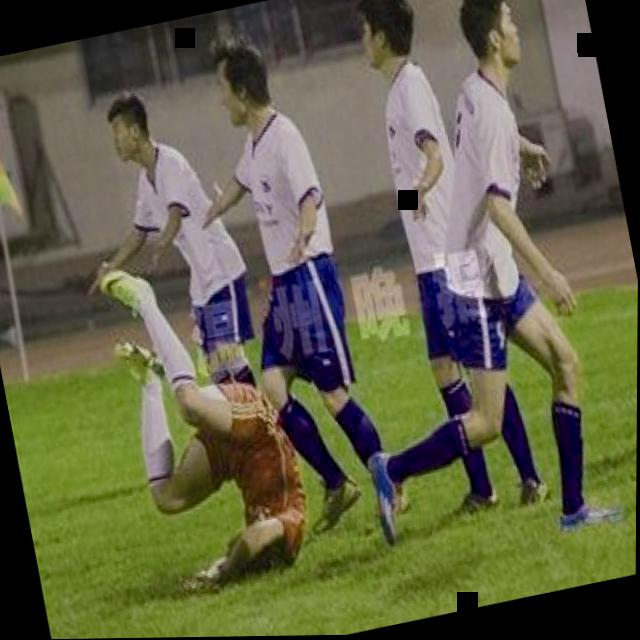Fall-Detected: (78, 226, 328, 605)
